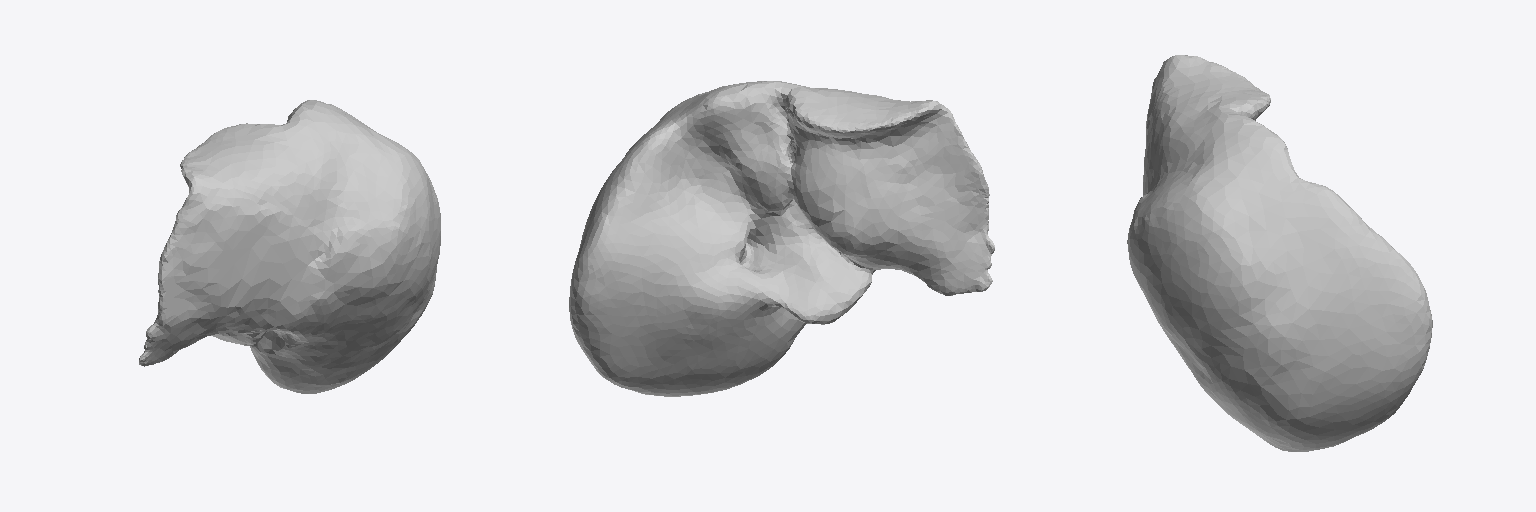
The model's file is liver.obj.
3 renders of one model, left to right at view 1: azimuth 30°, elevation 25°; view 2: azimuth 150°, elevation 25°; view 3: azimuth 270°, elevation 25°, orthographic.
Parts seen in each view (by area): view 1: liver; view 2: liver; view 3: liver.
Boxes of the visible parts, x1=… form: liver: x1=139, y1=100, x2=440, y2=393; liver: x1=569, y1=81, x2=994, y2=396; liver: x1=1127, y1=55, x2=1432, y2=451.
Size of the model in its own units: 197 by 167 by 153.